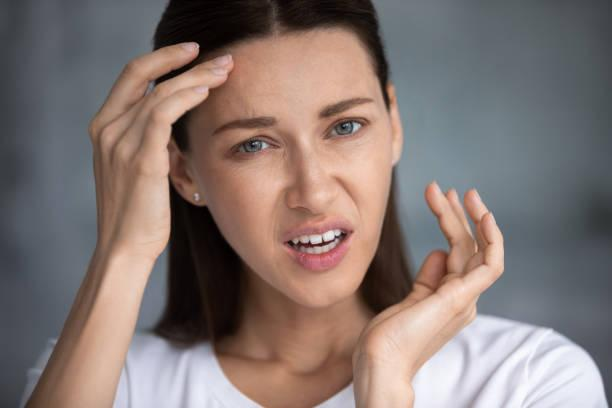Dry-Skin: (216, 179, 304, 281), (229, 55, 332, 93)
